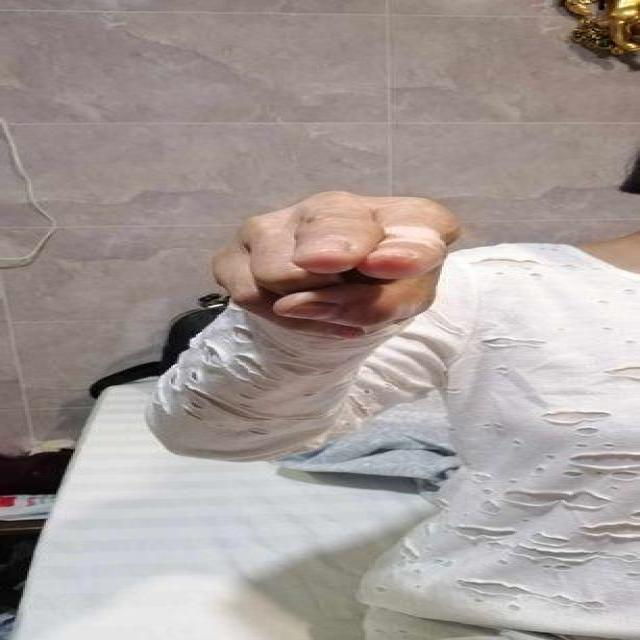N: (210, 189, 460, 339)
